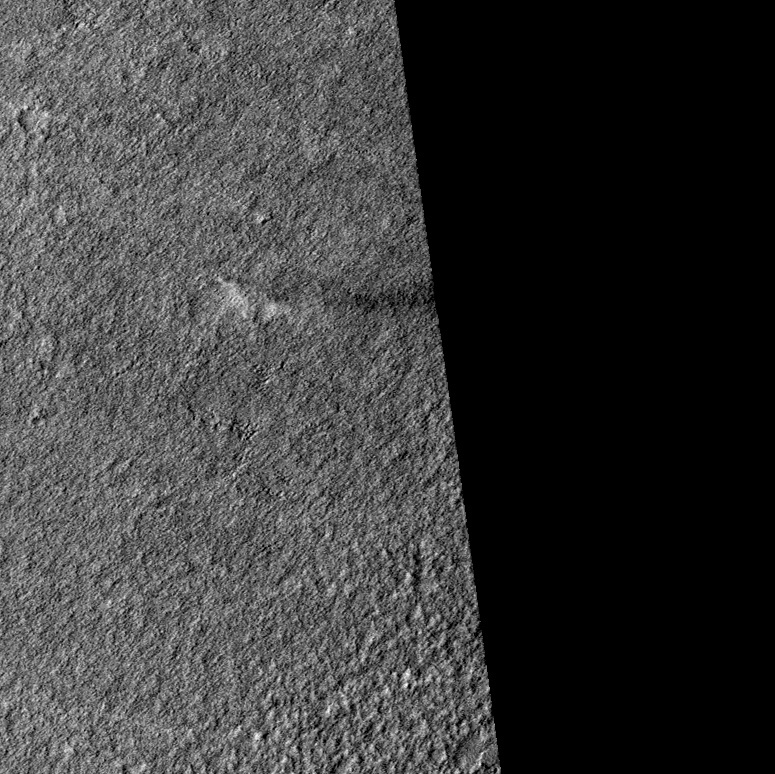dust_devil: (214, 274, 433, 338)
